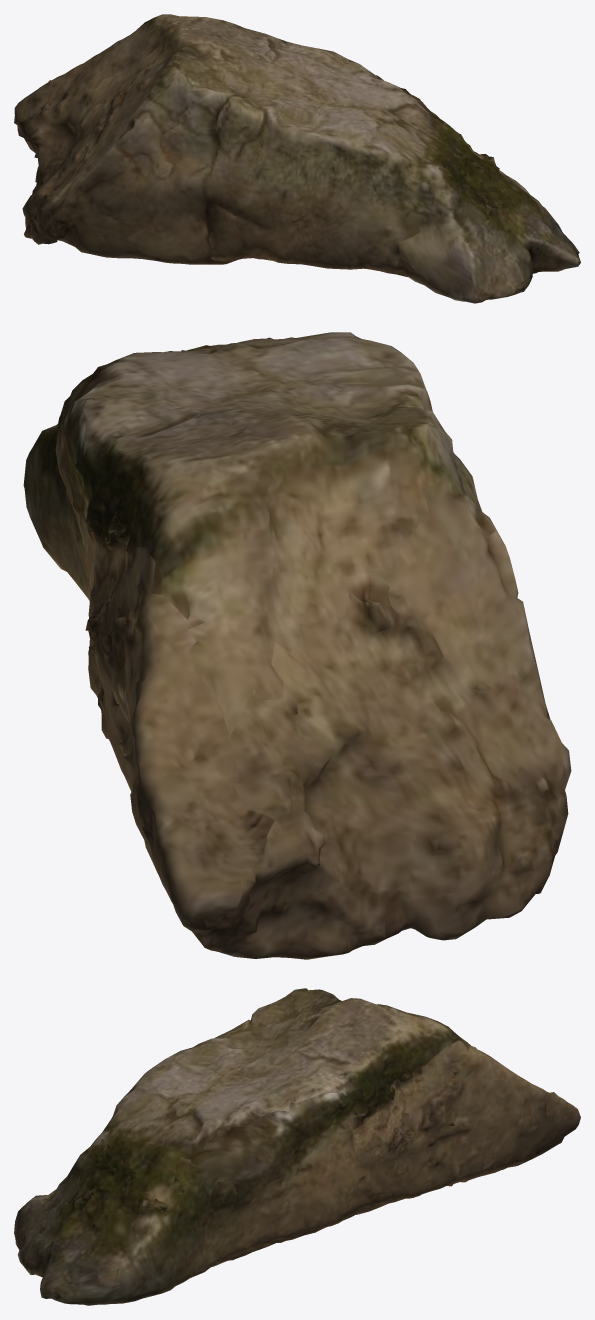
Rendered from rock_moss_set_01_rock02.glb.
The picture shows the model from 3 angles, top to bottom: view 1: azimuth 30°, elevation 25°; view 2: azimuth 150°, elevation 25°; view 3: azimuth 270°, elevation 25°; orthographic projection. The views are drawn at different scales.
Visible parts, largest first — view 1: rock_moss_set_01_rock02.001; view 2: rock_moss_set_01_rock02.001; view 3: rock_moss_set_01_rock02.001.
Part boxes in pixels (x1,y1,x2,y2): rock_moss_set_01_rock02.001: [14, 14, 580, 303]; rock_moss_set_01_rock02.001: [23, 332, 571, 959]; rock_moss_set_01_rock02.001: [14, 988, 580, 1305].
Bounding box in the file's own units: 2.66 × 1.26 × 3.26.
1 material, 1 textured.
